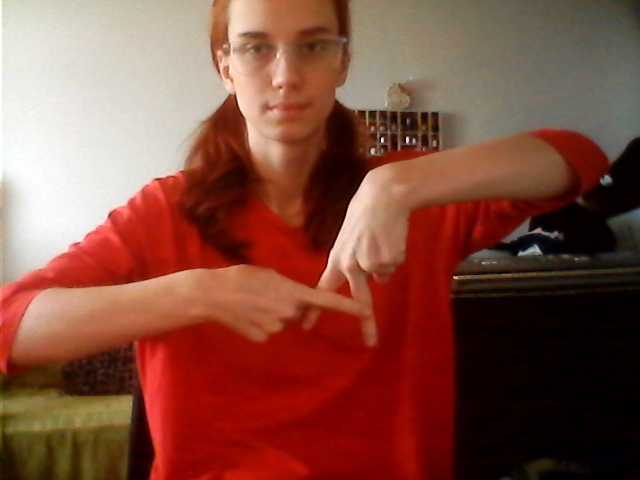a: (240, 255, 409, 372)
